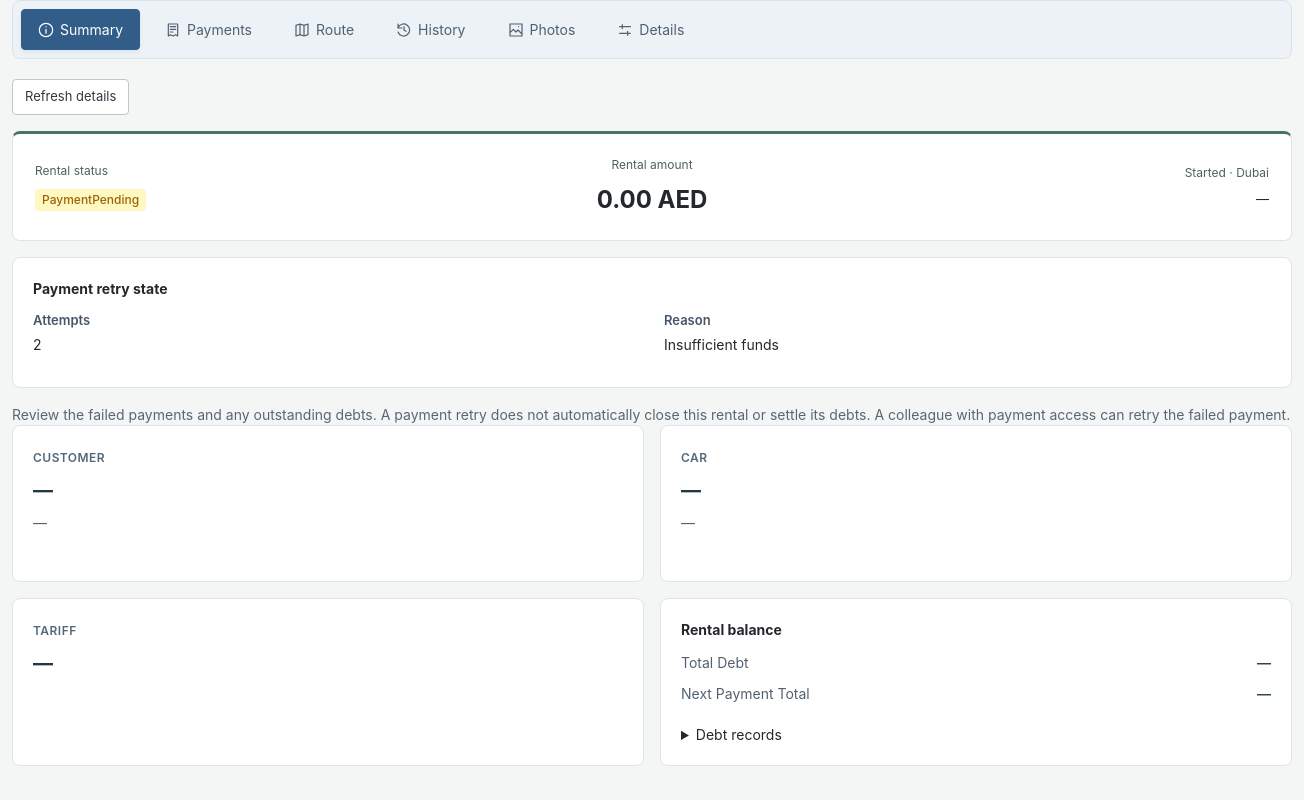
Test: renders payment retry state and loads payments only when selected
Expected: the text "Insufficient funds" is shown, [664,336,779,353]
Step 1. Click the button "Payments" → (208, 30), box [148,9,269,50]
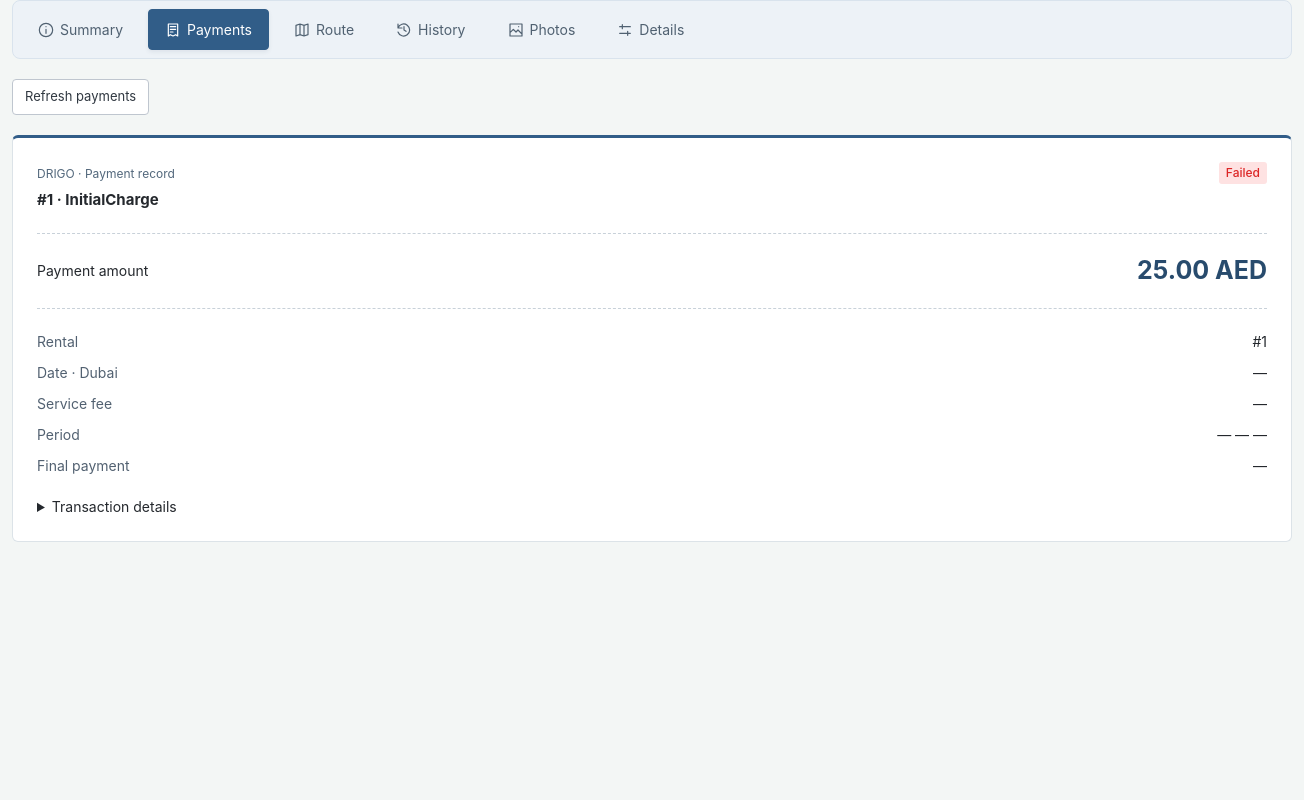
Expected: the text "25.00 AED" is shown, [1137,252,1267,290]
Expected: the text "Failed" is shown, [1219,162,1267,184]
